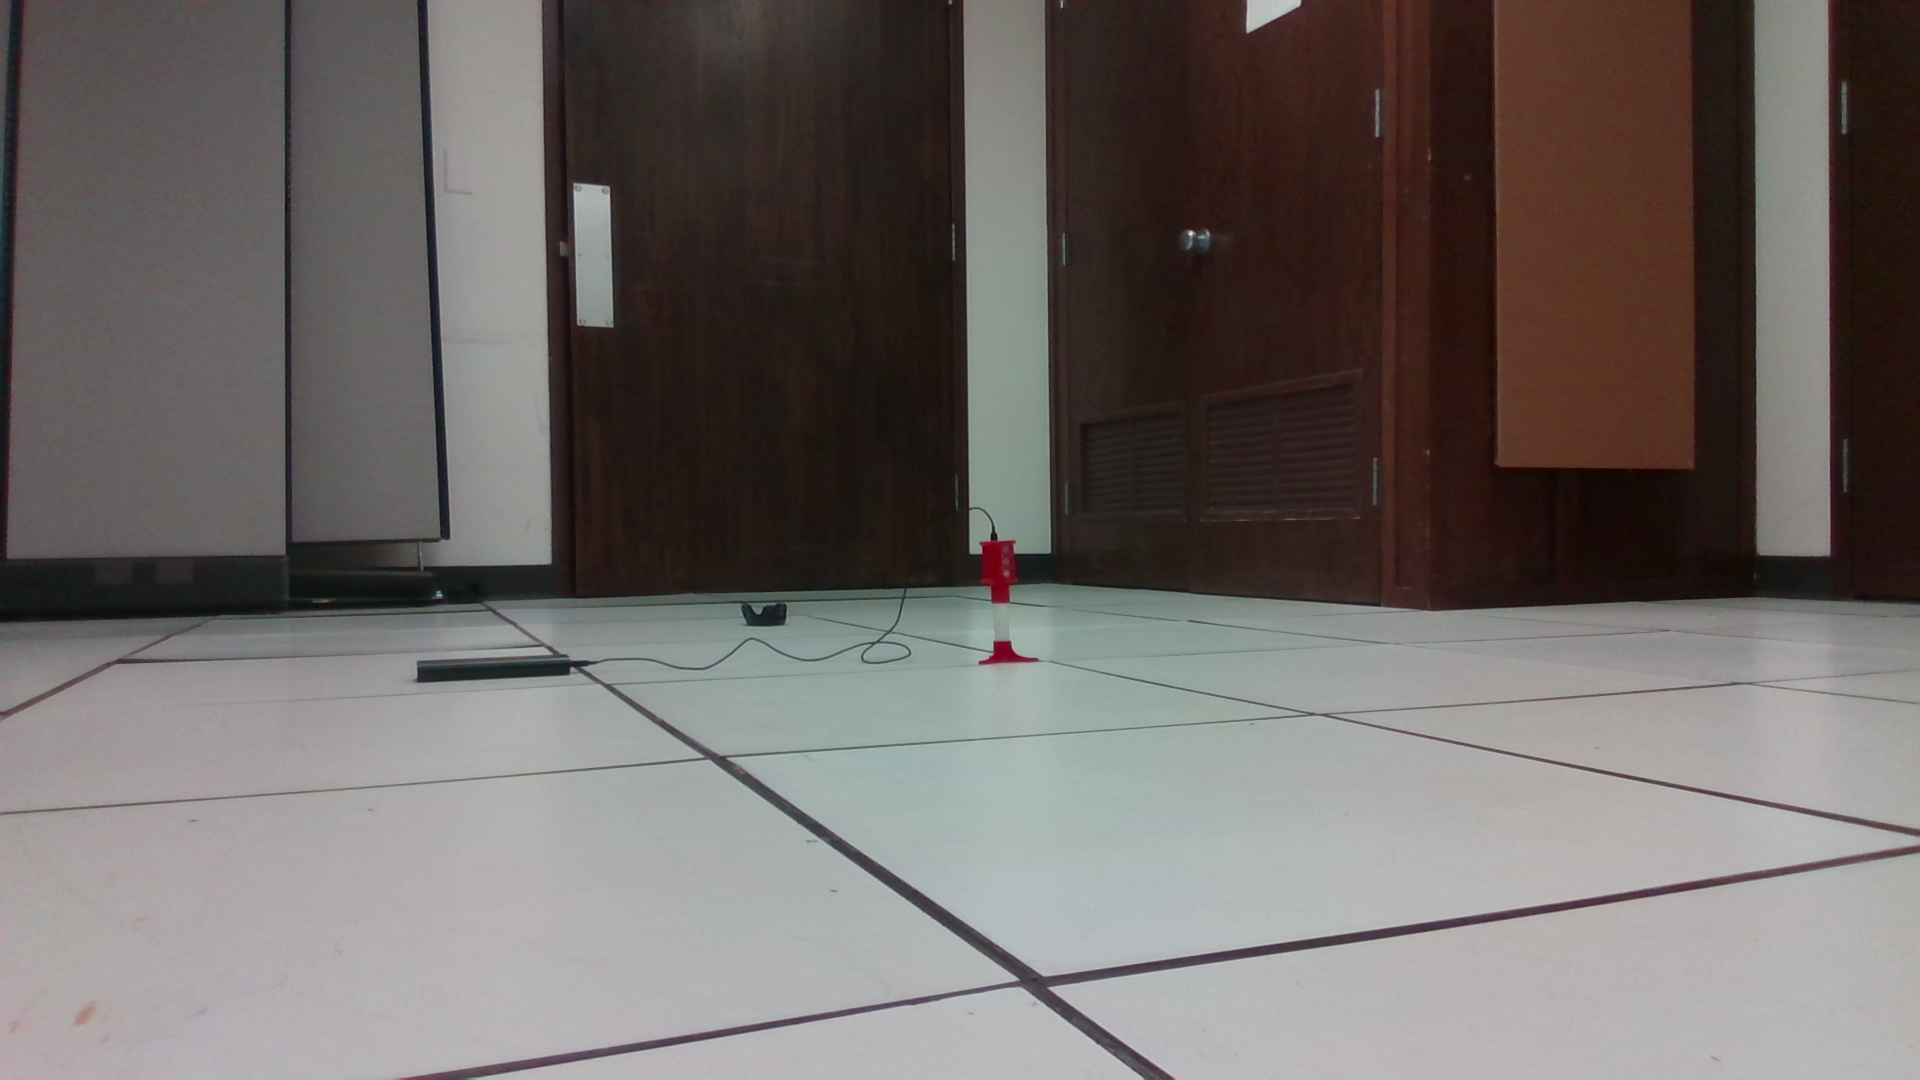stoplight: (981, 539, 1021, 603)
